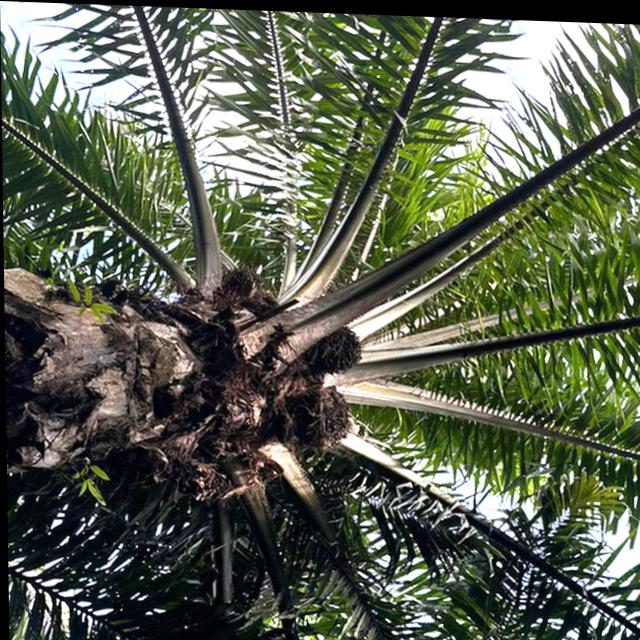almost: (296, 376, 355, 449), (302, 320, 363, 372)
